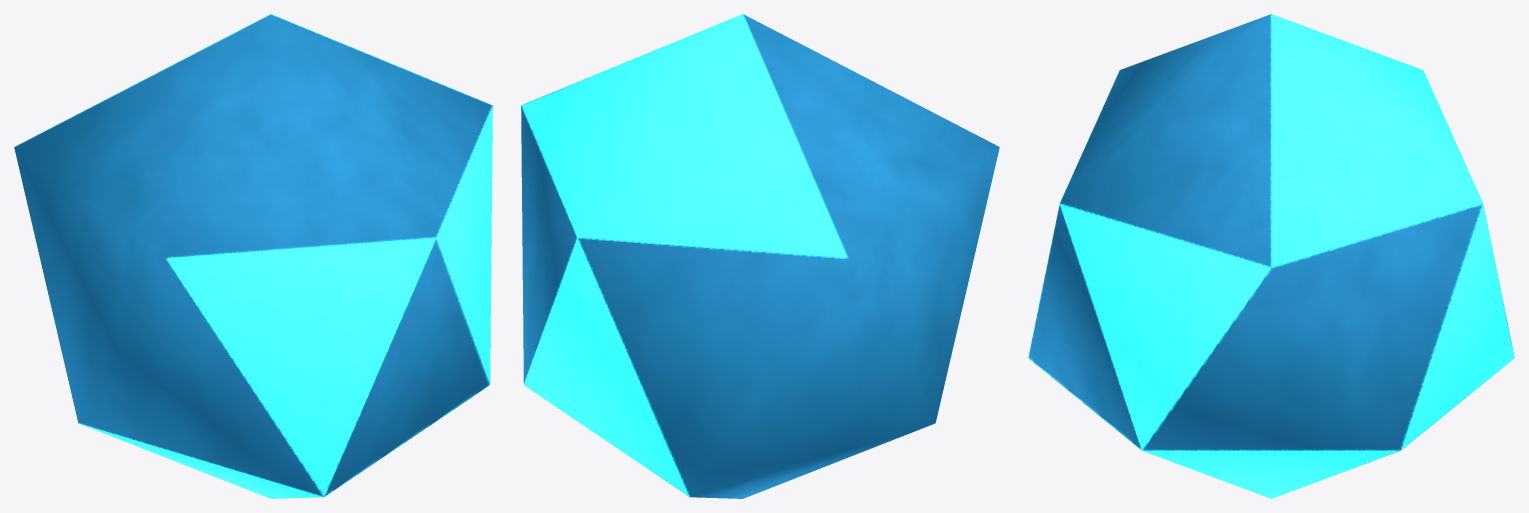
File: experience_crystal.glb
3 views of the same model, side by side, from view 1: azimuth 30°, elevation 25°; view 2: azimuth 150°, elevation 25°; view 3: azimuth 270°, elevation 25° (orthographic).
Visible parts, largest first — view 1: experience_crystal_Mesh; view 2: experience_crystal_Mesh; view 3: experience_crystal_Mesh.
Boxes of the visible parts, bbox=[...] form: experience_crystal_Mesh: bbox=[14, 14, 492, 498]; experience_crystal_Mesh: bbox=[521, 14, 999, 498]; experience_crystal_Mesh: bbox=[1028, 14, 1514, 498].
Size of the model in its own units: 0.805 by 0.9 by 0.8185.
Materials: 1 (1 with a texture image).
